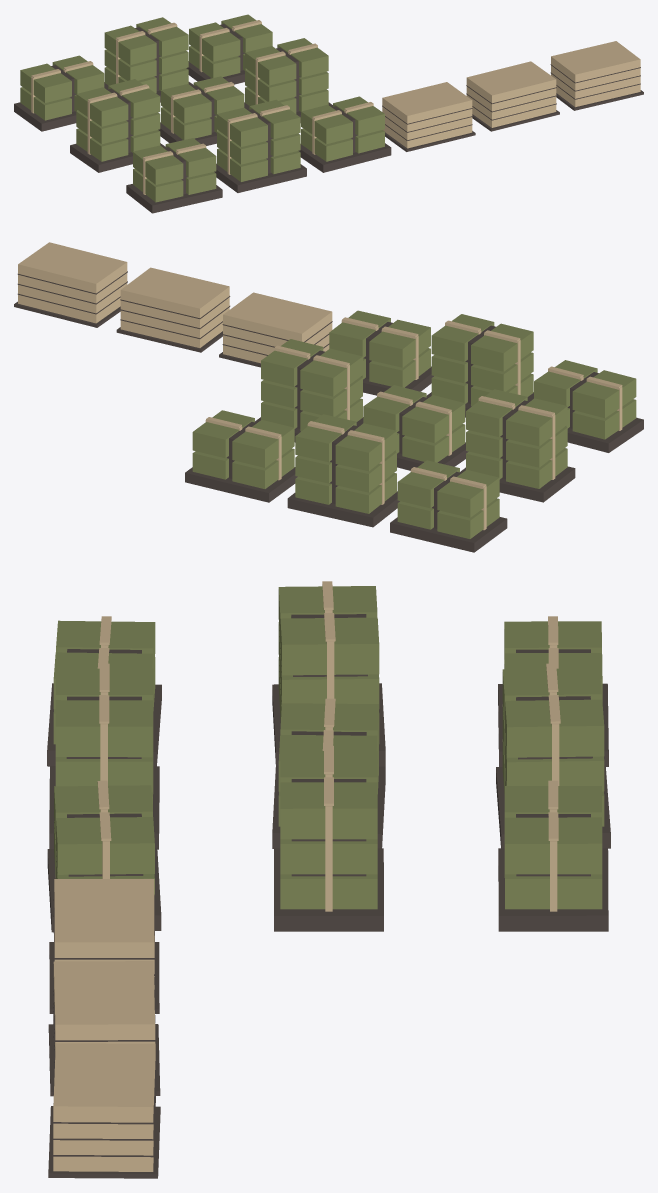
Rendered from SM_AcopioMunicion_v1_Mitad_LOD0.fbx.
3 renders of one model, top to bottom at view 1: azimuth 30°, elevation 25°; view 2: azimuth 150°, elevation 25°; view 3: azimuth 270°, elevation 25°, orthographic. The views are drawn at different scales.
Parts seen in each view (by area): view 1: SM_acopio_carga_v1_LOD0; view 2: SM_acopio_carga_v1_LOD0; view 3: SM_acopio_carga_v1_LOD0.
Boxes of the visible parts, x1=… form: SM_acopio_carga_v1_LOD0: x1=14, y1=14, x2=643, y2=213; SM_acopio_carga_v1_LOD0: x1=14, y1=242, x2=643, y2=552; SM_acopio_carga_v1_LOD0: x1=47, y1=581, x2=610, y2=1178.
Bounding box in the file's own units: 9.1 × 1.09 × 4.52.
